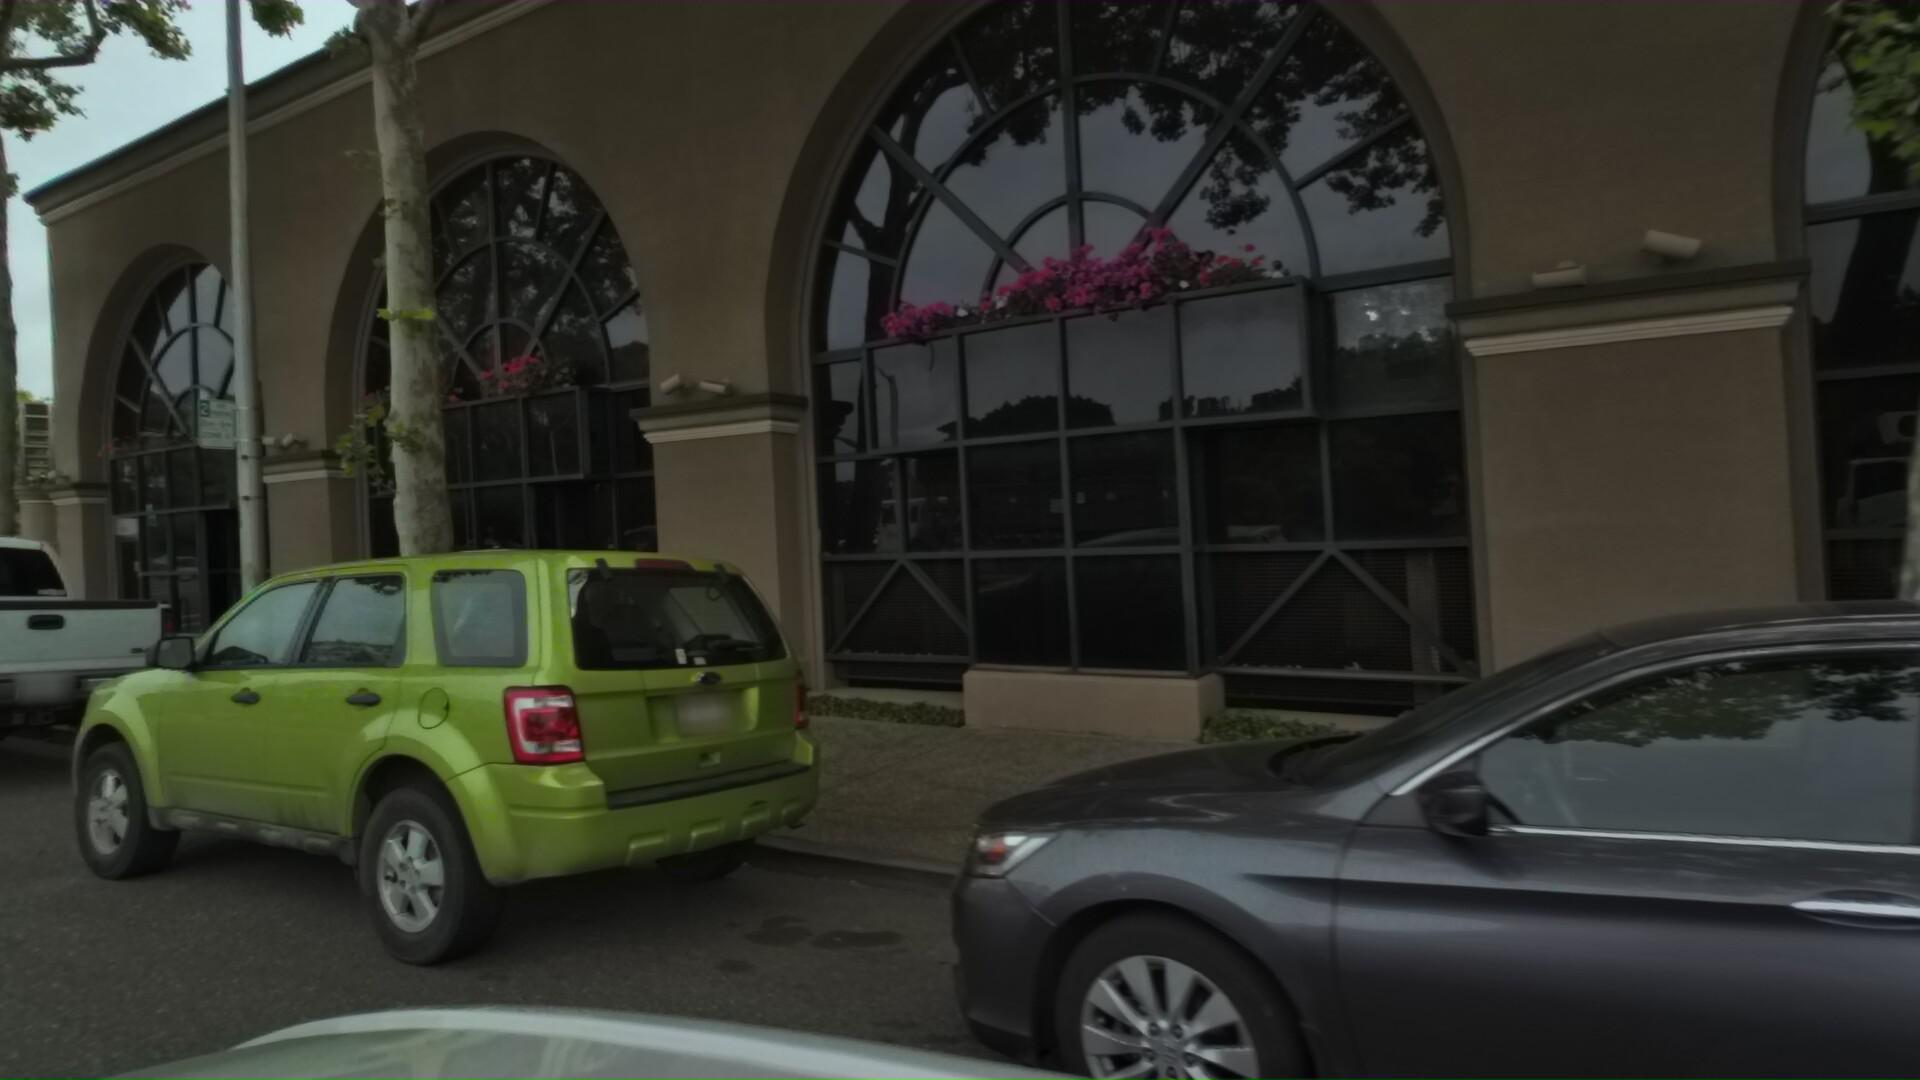car: (972, 566, 1920, 1080), (58, 535, 944, 1068), (0, 505, 231, 836)
